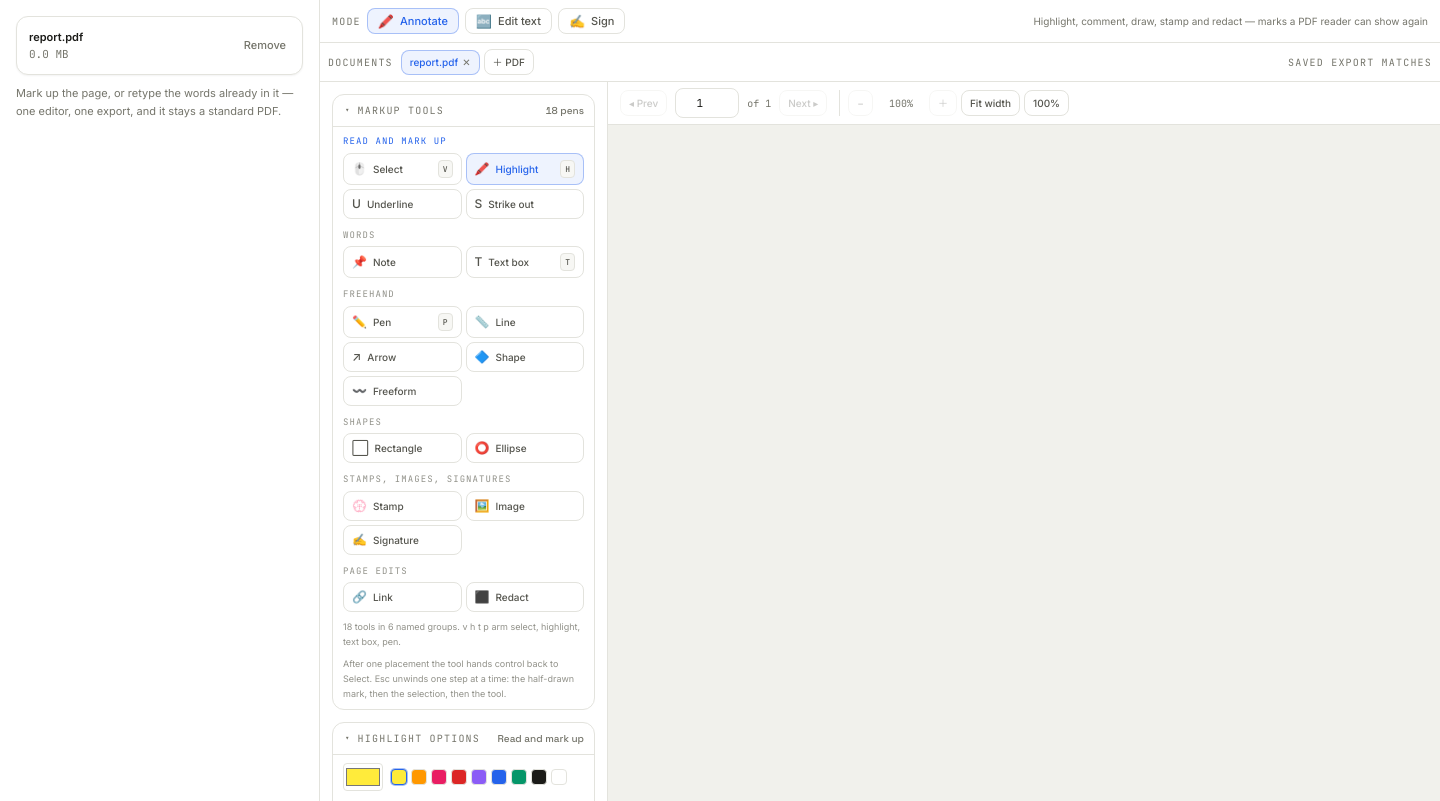
Test: switching modes › says which mode is up, in the surface rather than in the page name
Check: the message "Highlight, comment, draw, stamp and redact — marks a PDF reader can show again" is shown, box [1033,15,1428,27]
What coordinates should you click on to do the following:
click the button "🔤 Edit text"
I would click on:
 (508, 21)
Its box is [465,8,552,34].
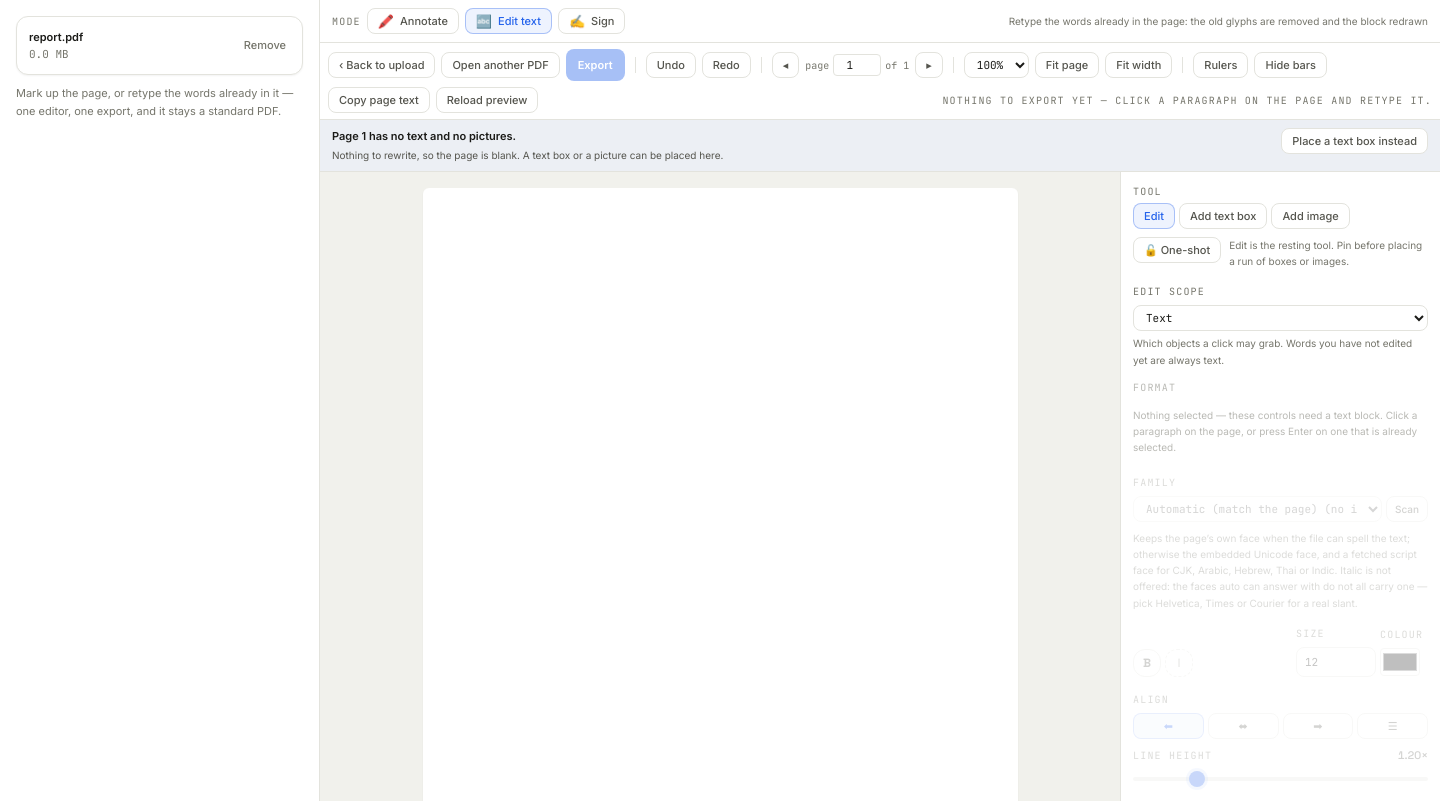
Check: the 1st message shows "Retype the words", box [1009,15,1428,27]
